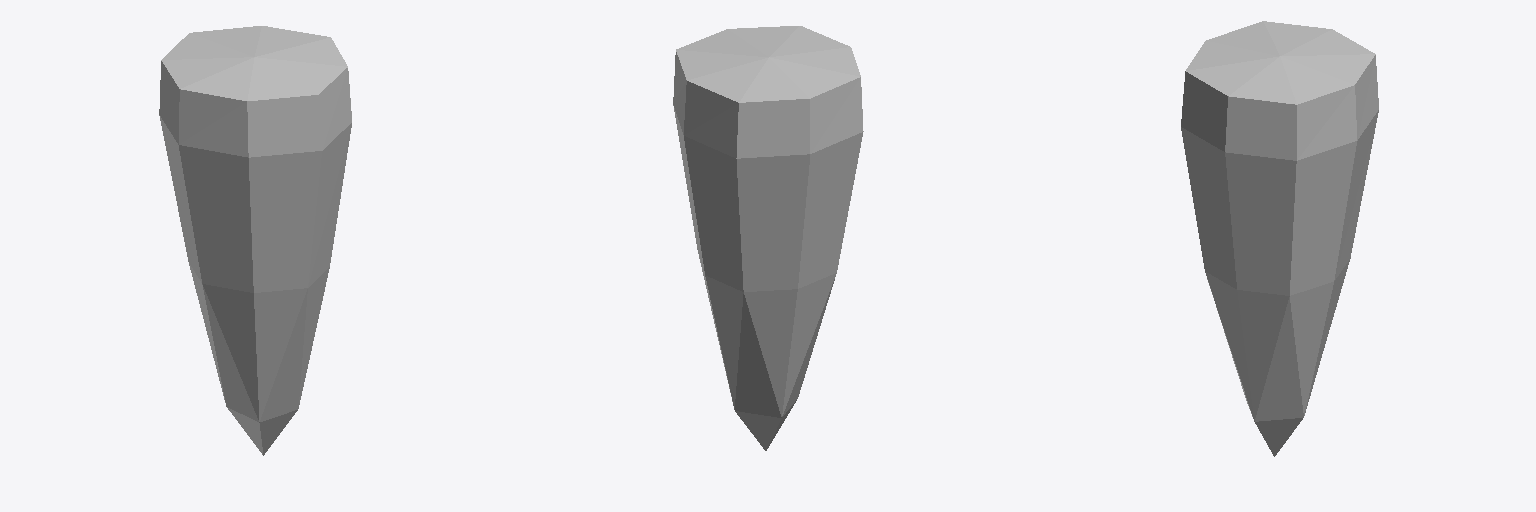
File: step_stone_03.obj
The picture shows the model from 3 angles: view 1: azimuth 30°, elevation 25°; view 2: azimuth 150°, elevation 25°; view 3: azimuth 270°, elevation 25°; orthographic projection.
Parts seen in each view (by area): view 1: step_stone_03; view 2: step_stone_03; view 3: step_stone_03.
Part boxes in pixels (bbox=[...]): step_stone_03: bbox=[159, 26, 351, 455]; step_stone_03: bbox=[673, 26, 863, 450]; step_stone_03: bbox=[1181, 21, 1378, 456].
Bounding box in the file's own units: 151 × 332 × 150.